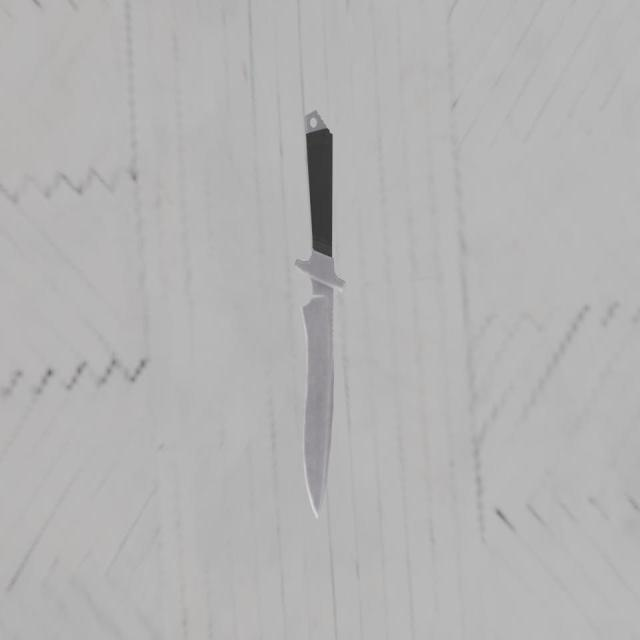knife: (305, 115, 332, 257)
